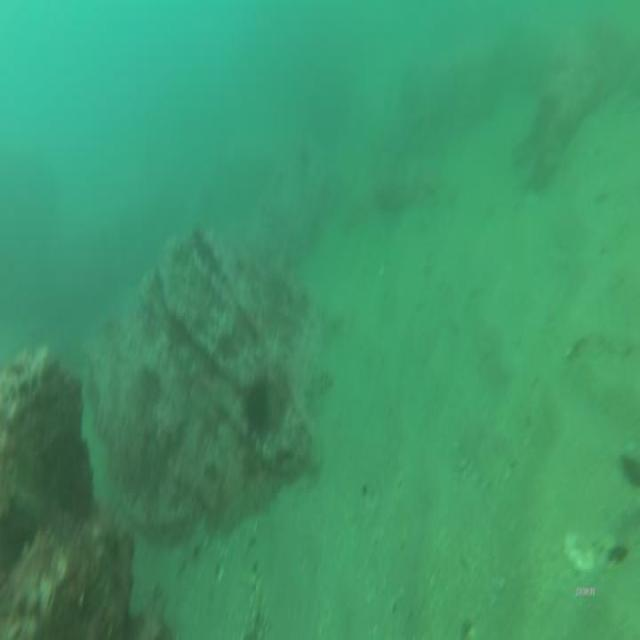echinus: (242, 368, 274, 441)
